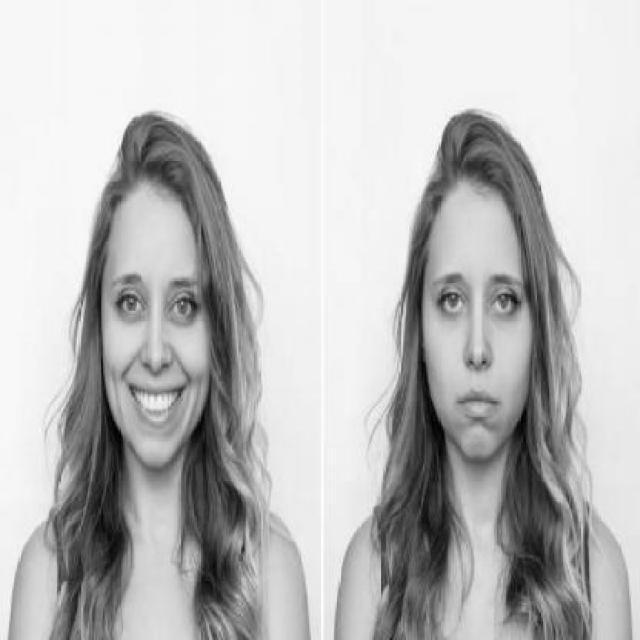happy: (110, 263, 206, 421)
sad: (436, 256, 527, 422)
